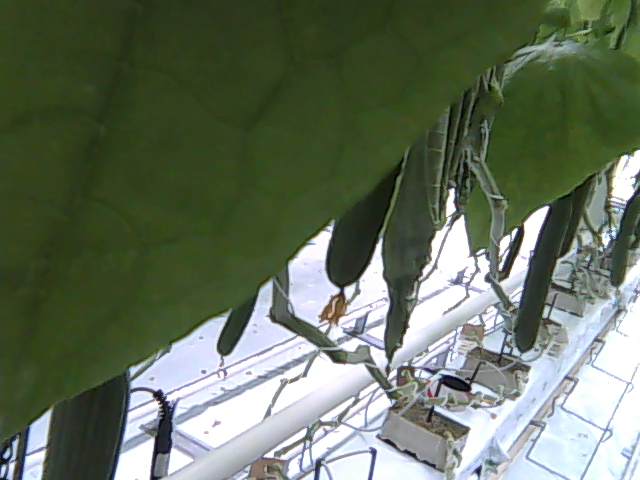concombre: (315, 152, 402, 329), (509, 191, 575, 366), (41, 367, 132, 480)
